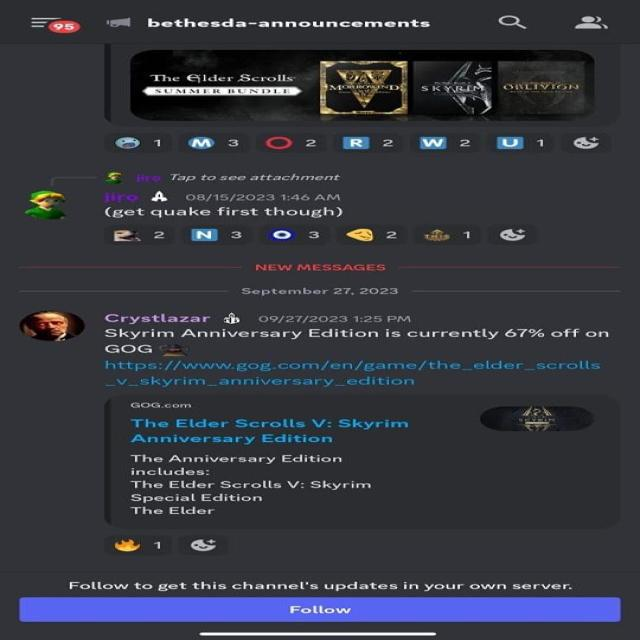BackgroundImage: (105, 396, 628, 531)
Drawer: (29, 14, 80, 36), (182, 534, 226, 554), (491, 226, 536, 244), (567, 134, 611, 152), (575, 15, 608, 30), (496, 15, 528, 30), (106, 17, 134, 30)
EditText: (107, 43, 623, 126), (480, 405, 596, 432), (18, 311, 86, 342), (24, 187, 74, 222), (105, 171, 124, 184)
Icon: (105, 360, 608, 389), (131, 416, 417, 448)
Modal: (130, 454, 376, 517), (106, 329, 614, 355), (68, 582, 578, 591), (146, 17, 436, 30), (105, 205, 344, 219), (100, 191, 346, 203), (135, 172, 345, 182), (252, 262, 392, 274), (240, 287, 403, 295), (130, 401, 197, 410)
